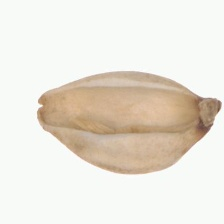L1: (196, 94, 223, 136), (36, 90, 51, 135)
L2: (36, 70, 222, 175)
